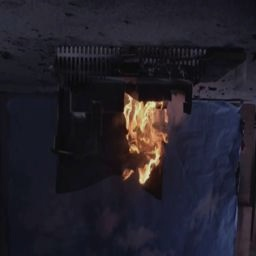fire: (113, 89, 175, 198)
